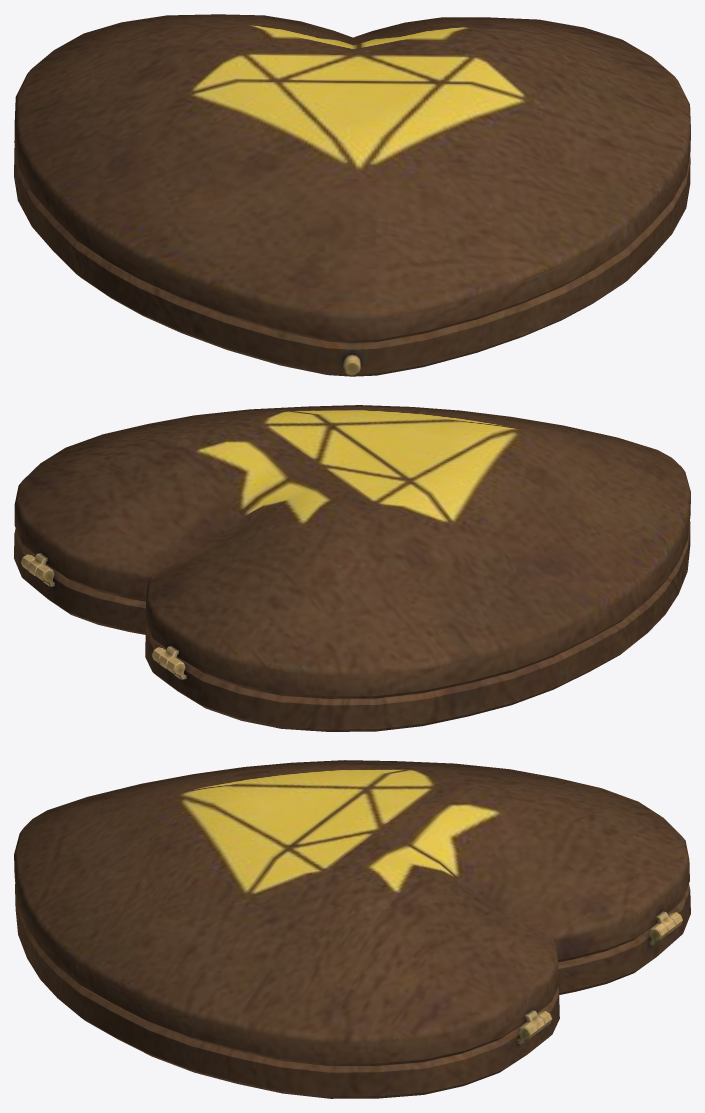
The model's file is jewellery-box-a.glb.
3 views of the same model, one above another, from view 1: azimuth 30°, elevation 25°; view 2: azimuth 150°, elevation 25°; view 3: azimuth 270°, elevation 25° (orthographic). The views are drawn at different scales.
Parts seen in each view (by area): view 1: jewellery-box-a; view 2: jewellery-box-a; view 3: jewellery-box-a.
Boxes of the visible parts, x1=… form: jewellery-box-a: x1=14, y1=14, x2=690, y2=376; jewellery-box-a: x1=14, y1=405, x2=690, y2=731; jewellery-box-a: x1=14, y1=760, x2=690, y2=1098.
Size of the model in its own units: 0.2229 by 0.0532 by 0.2283.
1 material, 1 textured.
